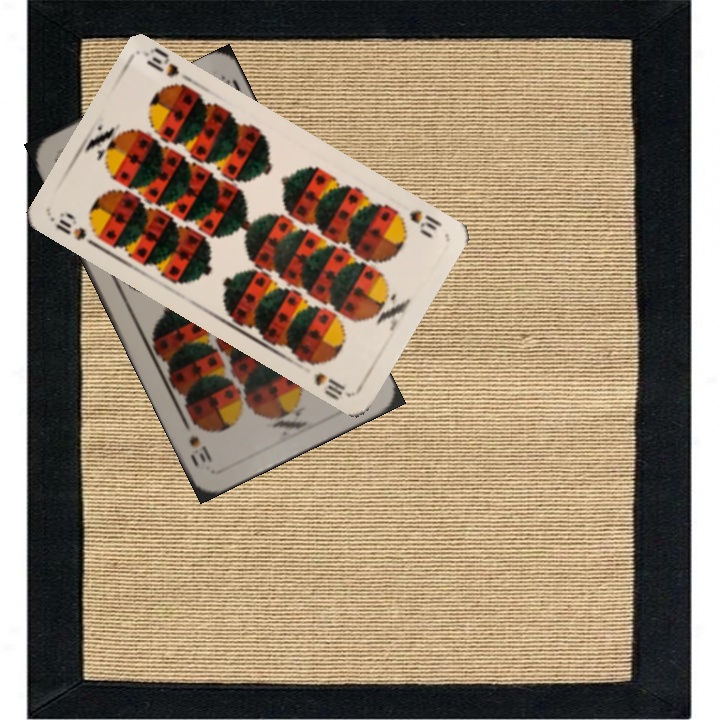S10: (390, 205, 444, 241), (51, 208, 89, 244)
